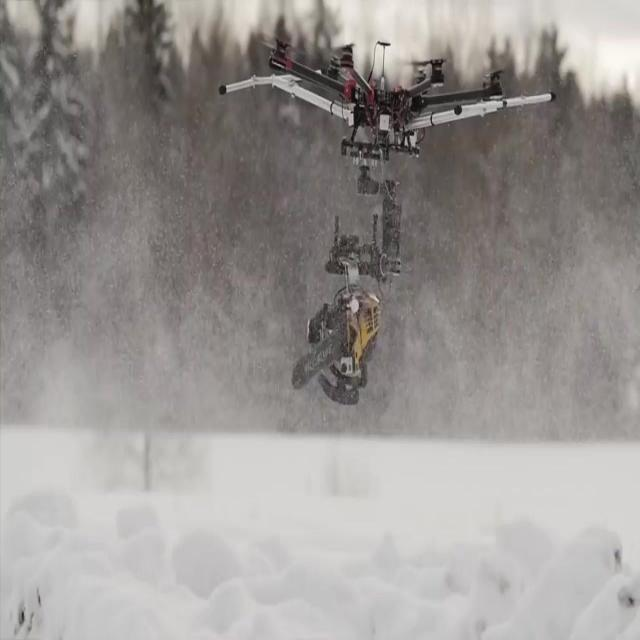UAV: (219, 38, 557, 164)
